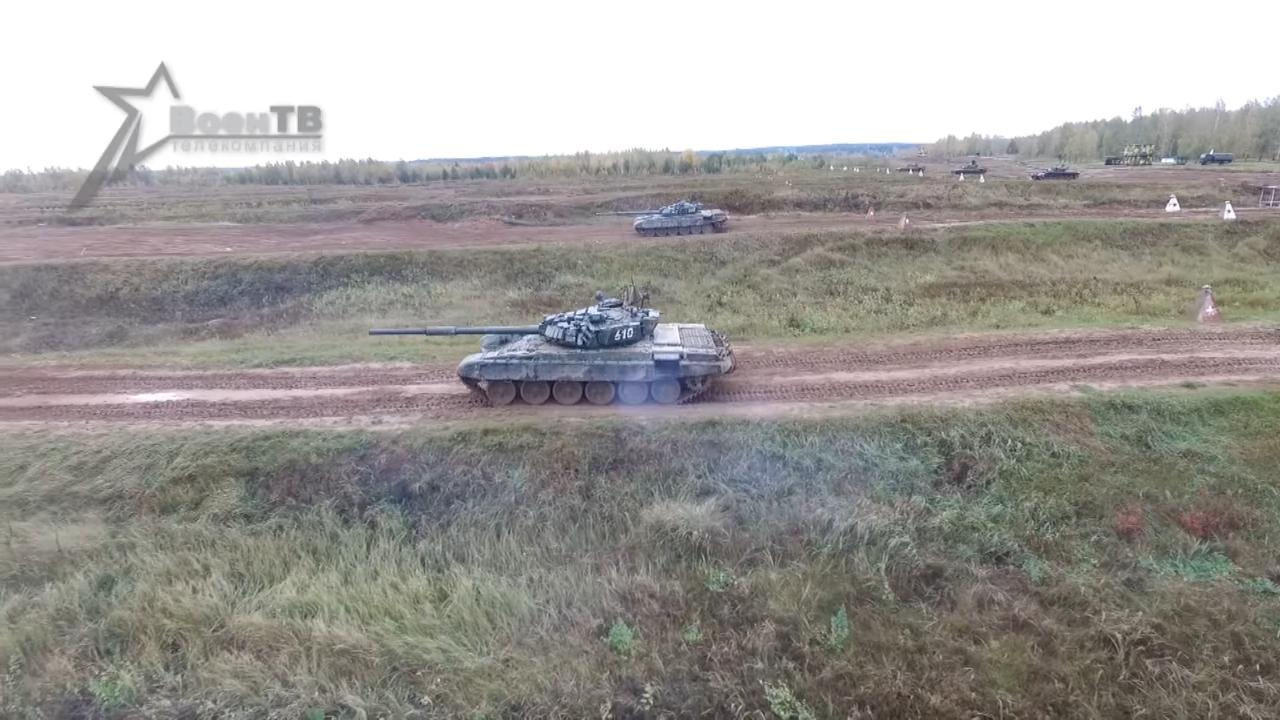tank: (368, 299, 734, 405), (596, 200, 728, 237), (1023, 166, 1080, 181), (951, 160, 987, 176)
